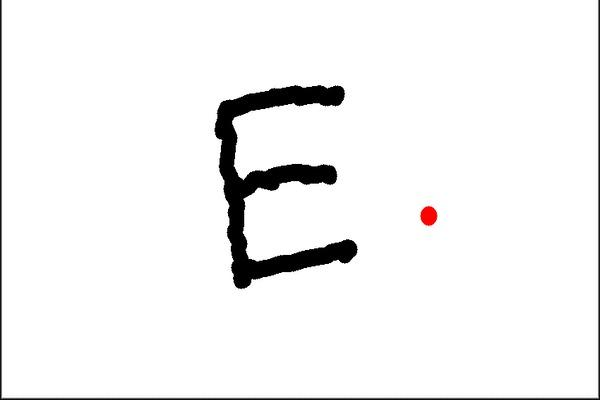E: (207, 78, 369, 290)
